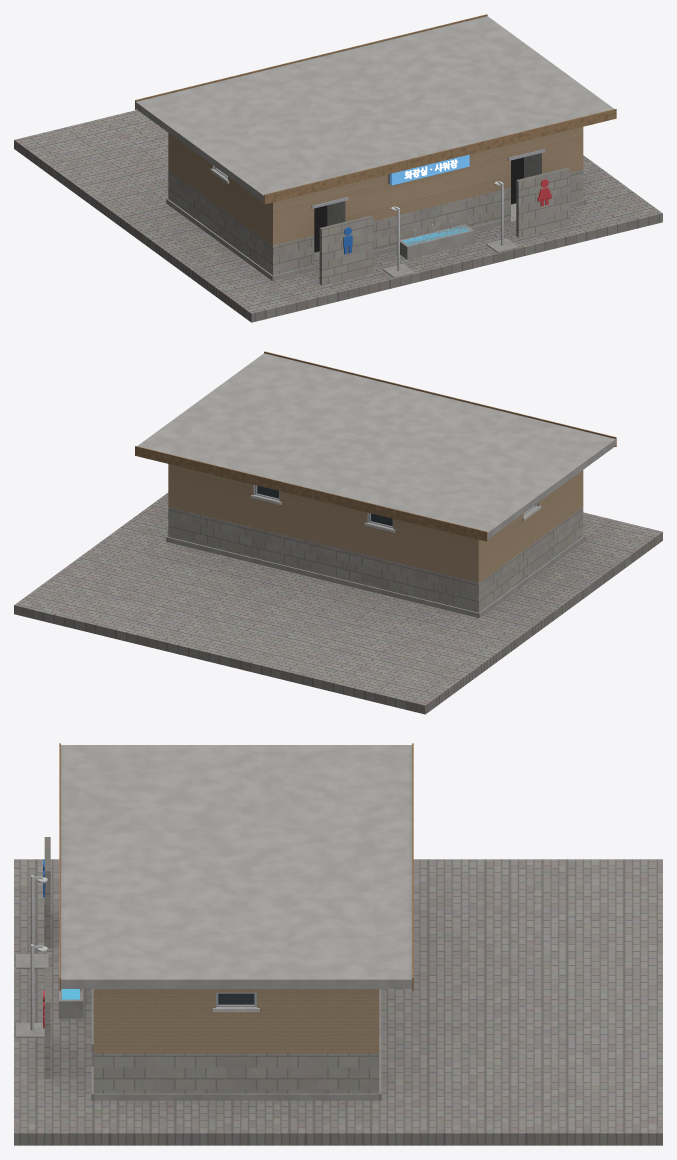
File: IlsanToilet01.fbx
The picture shows the model from 3 angles, top to bottom: view 1: azimuth 30°, elevation 25°; view 2: azimuth 150°, elevation 25°; view 3: azimuth 270°, elevation 25°; orthographic projection. The views are drawn at different scales.
Parts seen in each view (by area): view 1: IlsanToilet01; view 2: IlsanToilet01; view 3: IlsanToilet01.
Part boxes in pixels (x1,y1,x2,y2): IlsanToilet01: (14, 14, 662, 322); IlsanToilet01: (14, 351, 662, 714); IlsanToilet01: (14, 743, 662, 1145).
Bounding box in the file's own units: 15.9 × 4 × 15.9.
1 material, 1 textured.
